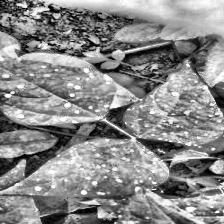Bean Rust: (0, 137, 172, 197), (0, 52, 120, 127), (121, 58, 224, 144), (104, 187, 197, 224), (0, 158, 46, 224), (179, 109, 224, 152), (159, 195, 224, 224)
